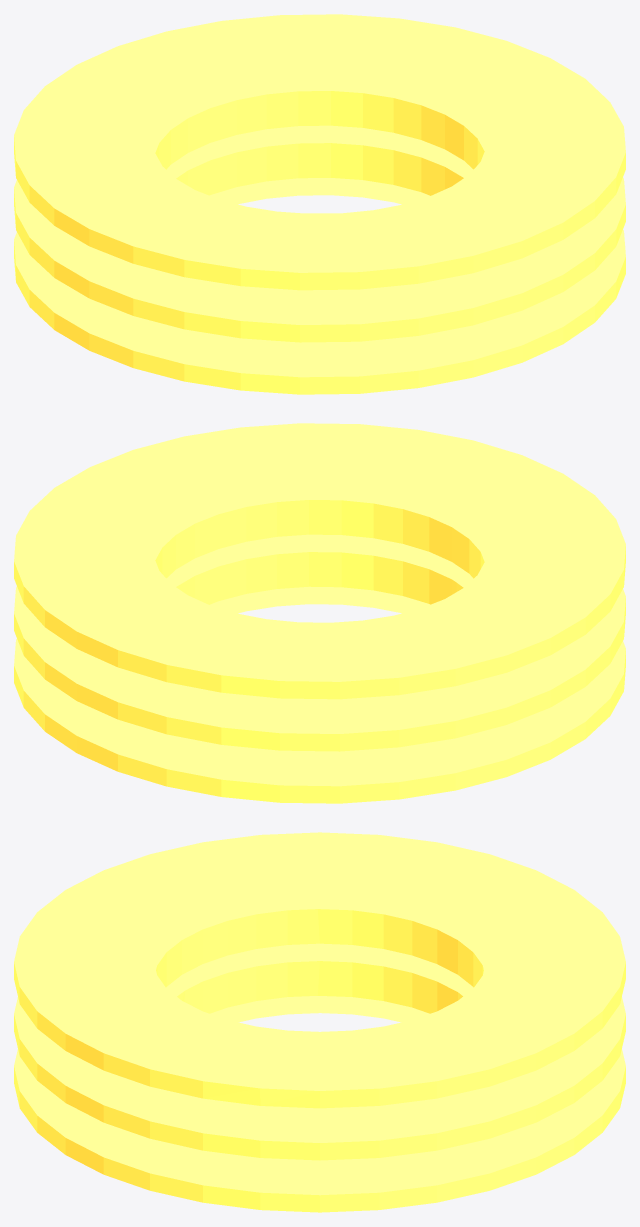
The model's file is rotation_base.dae.
3 renders of one model, top to bottom at view 1: azimuth 30°, elevation 25°; view 2: azimuth 150°, elevation 25°; view 3: azimuth 270°, elevation 25°, orthographic.
Parts seen in each view (by area): view 1: base.002; view 2: base.002; view 3: base.002.
Boxes of the visible parts, box(x1,y1,x2,y2) form: base.002: box(14, 14, 625, 394); base.002: box(14, 423, 625, 803); base.002: box(14, 832, 625, 1212).
Bounding box in the file's own units: 0.1054 × 0.1054 × 0.0231.
